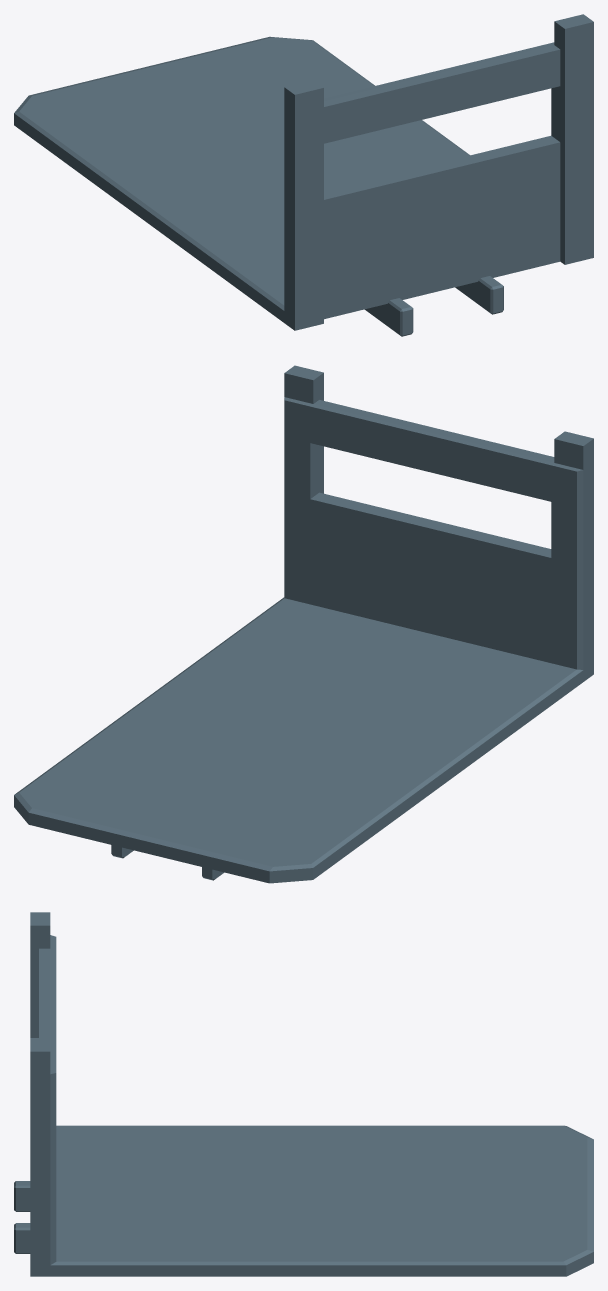
Rendered from flat.glb.
3 views of the same model, one above another, from view 1: azimuth 30°, elevation 25°; view 2: azimuth 150°, elevation 25°; view 3: azimuth 270°, elevation 25° (orthographic). The views are drawn at different scales.
Parts seen in each view (by area): view 1: Cube.2816_Outline.001_0; view 2: Cube.2816_Outline.001_0; view 3: Cube.2816_Outline.001_0.
Part boxes in pixels (left/top/right/bottom): Cube.2816_Outline.001_0: left=14, top=14, right=593, bottom=336; Cube.2816_Outline.001_0: left=14, top=365, right=593, bottom=883; Cube.2816_Outline.001_0: left=14, top=912, right=593, bottom=1276.
Bounding box in the file's own units: 3.01 × 2.5 × 5.29.
